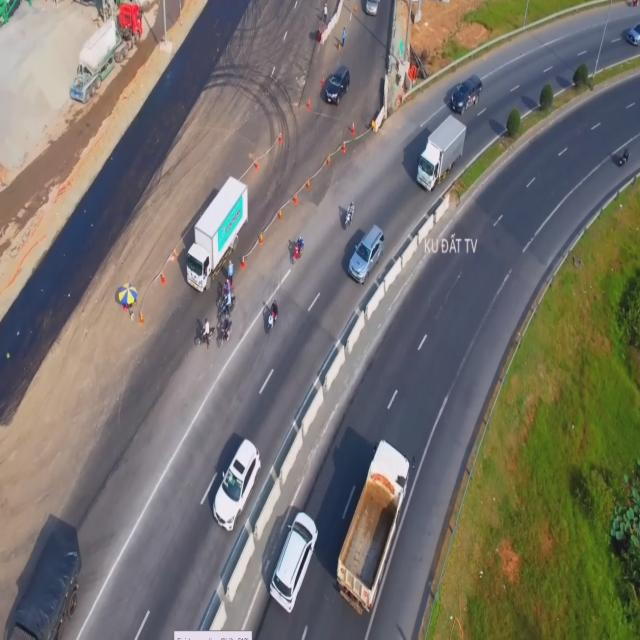car: (213, 433, 261, 532), (271, 511, 316, 610), (350, 224, 384, 281), (322, 61, 352, 110), (453, 76, 483, 113), (364, 1, 380, 16)
motorbike: (194, 327, 214, 351), (217, 317, 233, 344), (294, 236, 308, 263), (266, 299, 278, 330), (617, 148, 631, 170), (344, 200, 354, 230)
truck: (332, 436, 410, 610), (6, 517, 81, 640), (184, 171, 246, 291), (413, 114, 467, 193)
